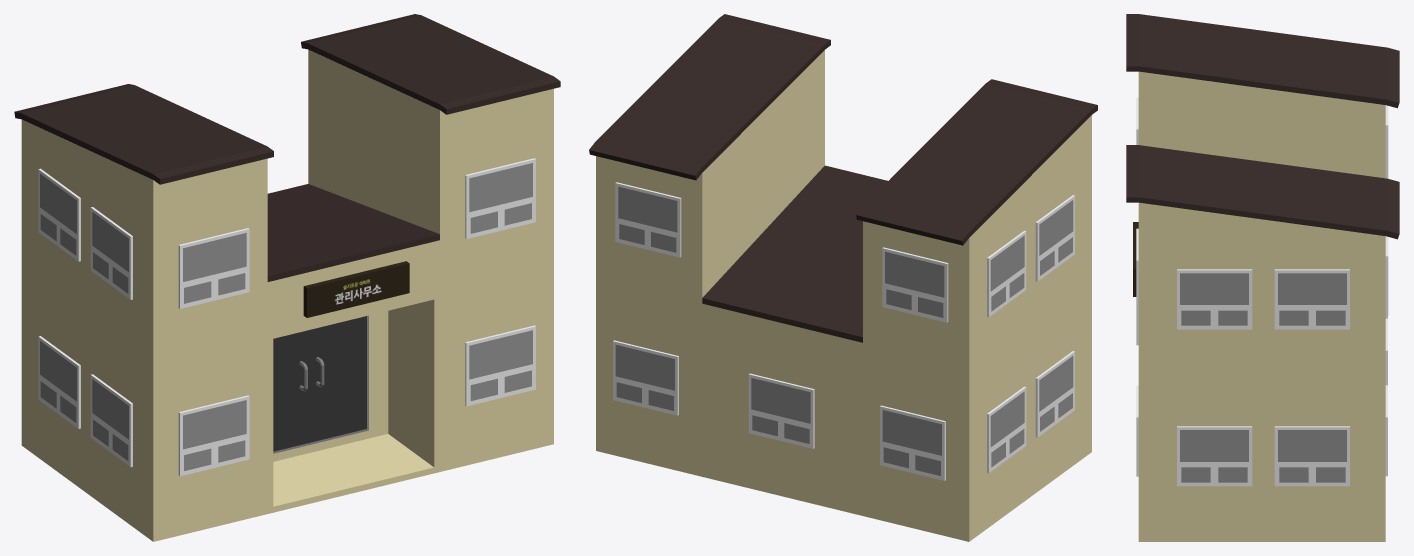
The model's file is APT_office.fbx.
3 views of the same model, side by side, from view 1: azimuth 30°, elevation 25°; view 2: azimuth 150°, elevation 25°; view 3: azimuth 270°, elevation 25° (orthographic). The views are drawn at different scales.
Visible parts, largest first — view 1: office.002; view 2: office.002; view 3: office.002.
Boxes of the visible parts, left/top/right/bottom form: office.002: left=14, top=14, right=560, bottom=541; office.002: left=589, top=14, right=1097, bottom=541; office.002: left=1126, top=14, right=1399, bottom=541.
Bounding box in the file's own units: 7.1 × 6.16 × 4.42.
Materials: 8 (1 with a texture image).
